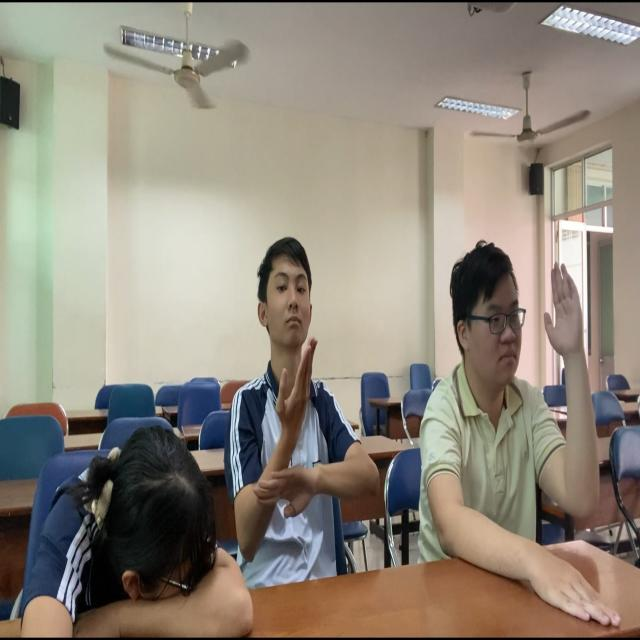raise_hand: (422, 228, 605, 612)
sleep: (1, 417, 279, 640)
